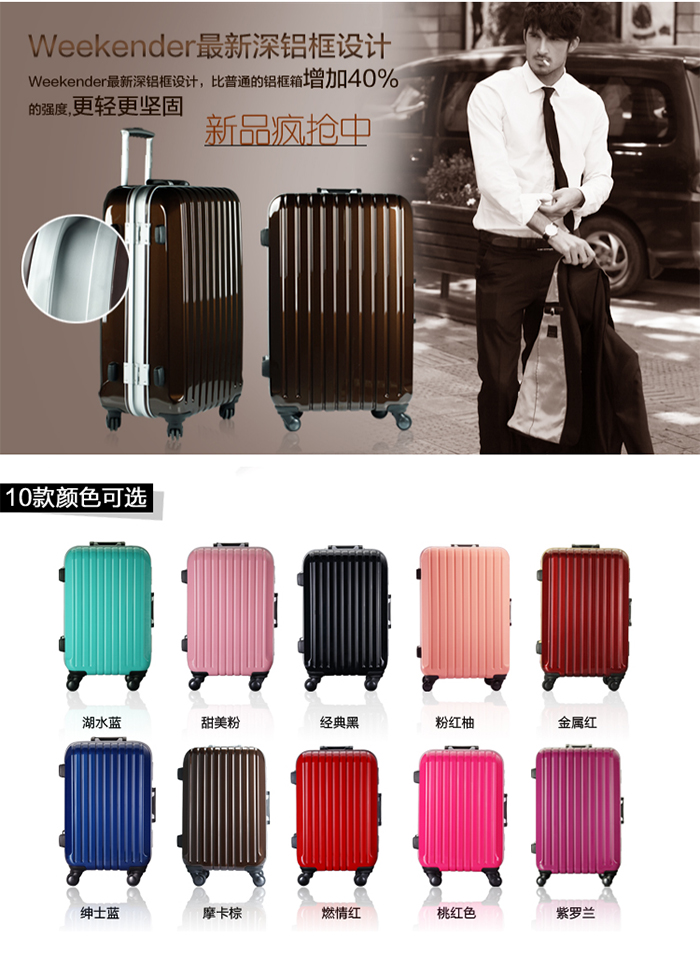luggage: (258, 187, 419, 432), (58, 541, 157, 693), (181, 541, 280, 693), (297, 539, 396, 691), (413, 541, 512, 693), (535, 542, 634, 694), (528, 738, 627, 890), (413, 743, 512, 895), (288, 742, 387, 894), (176, 737, 275, 889), (59, 735, 158, 887)
